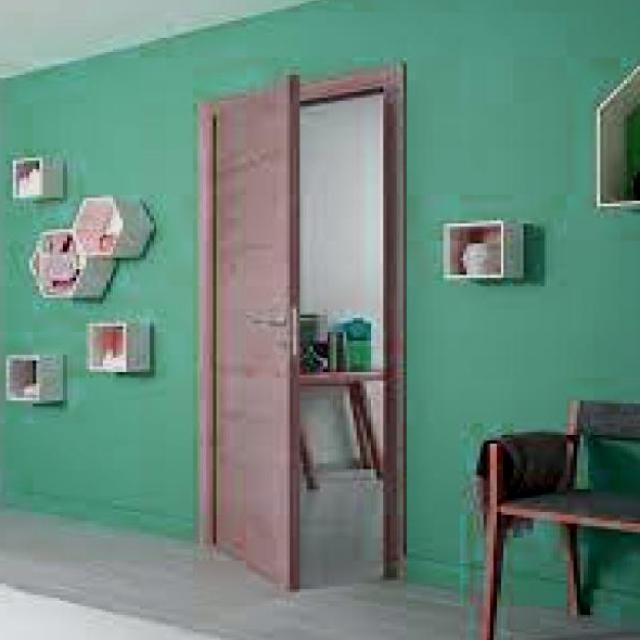door: (198, 66, 308, 598)
